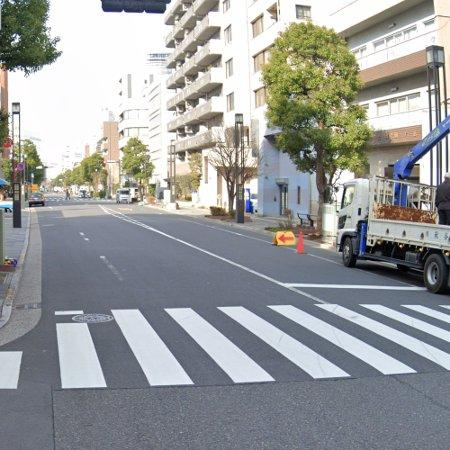crosswalks: (0, 300, 450, 390)
